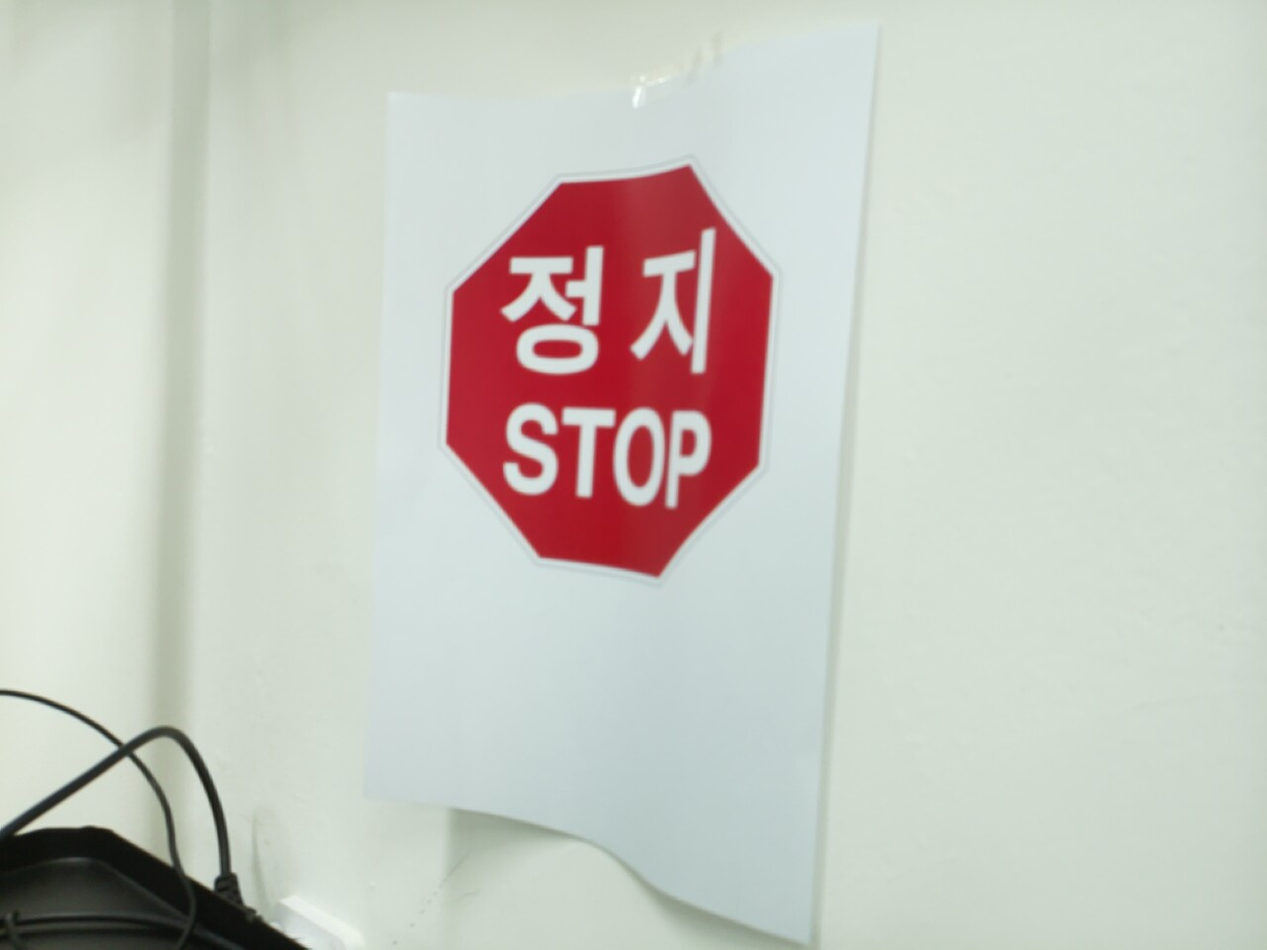stop: (436, 153, 783, 589)
